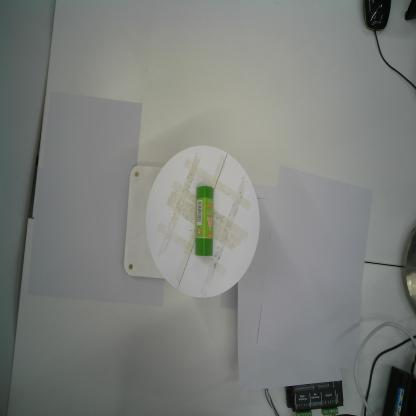Stationery: (195, 184, 214, 258)
